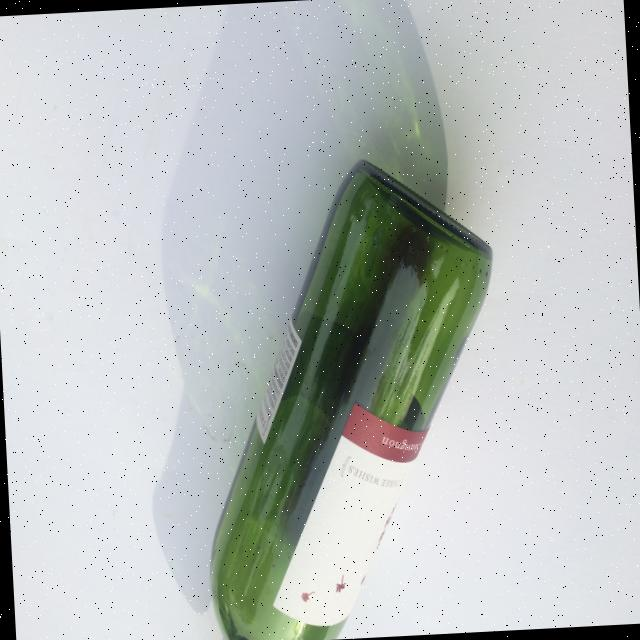glass: (187, 150, 512, 640)
